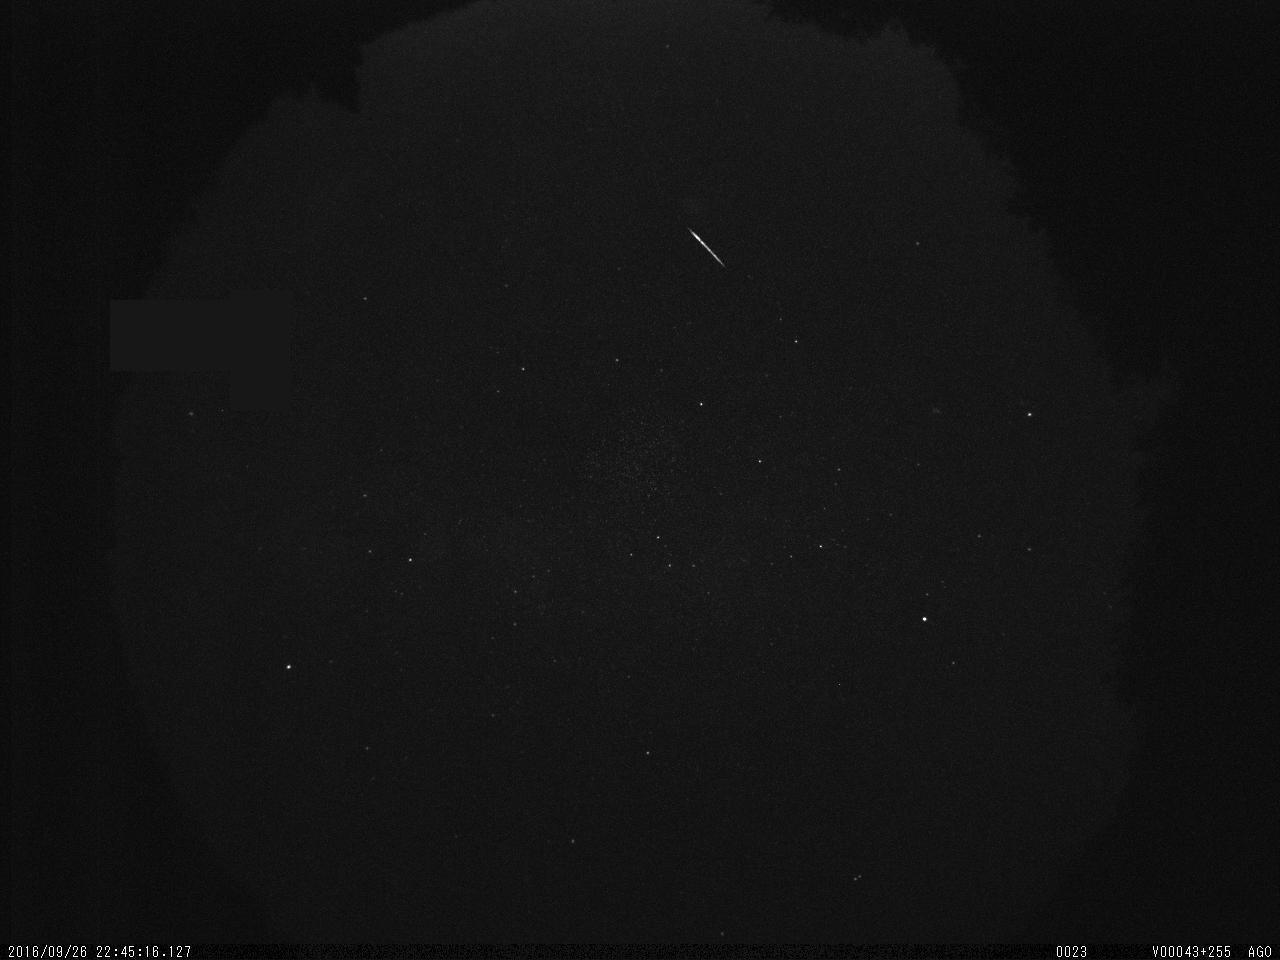meteor: (665, 209, 759, 302)
